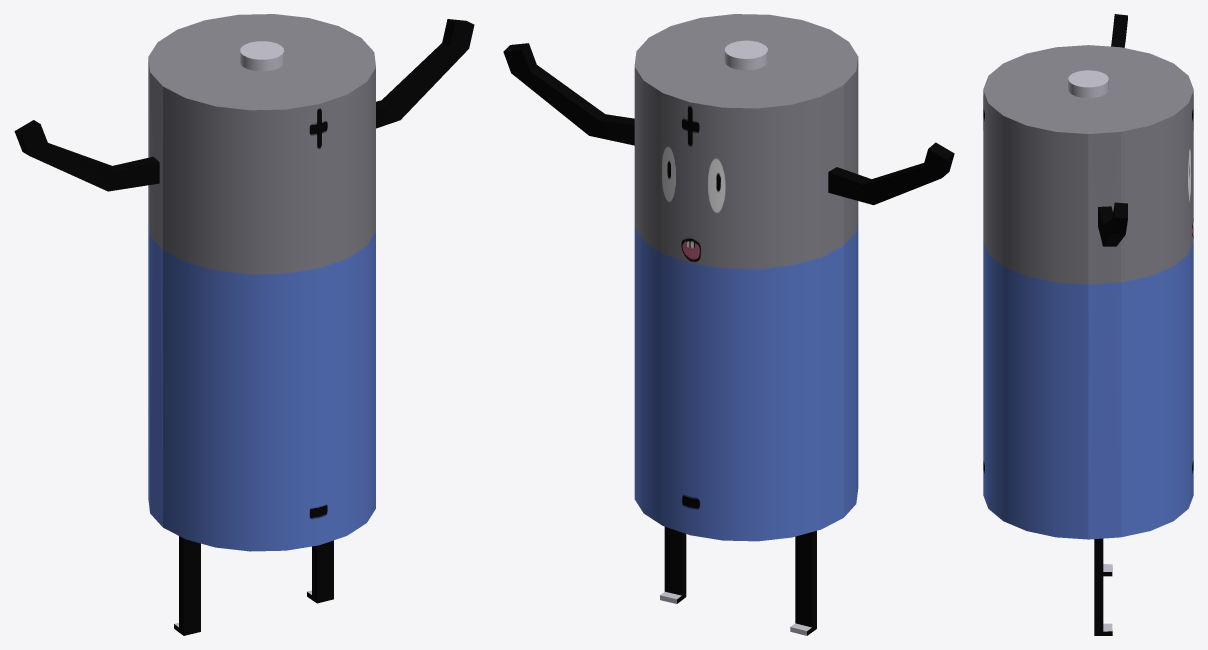
Rendered from Battery.fbx.
3 views of the same model, side by side, from view 1: azimuth 30°, elevation 25°; view 2: azimuth 150°, elevation 25°; view 3: azimuth 270°, elevation 25° (orthographic). The views are drawn at different scales.
Parts seen in each view (by area): view 1: pCylinder1; view 2: pCylinder1; view 3: pCylinder1.
Boxes of the visible parts, box(x1,y1,x2,y2) form: pCylinder1: box(14, 14, 474, 635); pCylinder1: box(503, 14, 954, 635); pCylinder1: box(983, 14, 1193, 635).
Bounding box in the file's own units: 4.57 × 5.48 × 2.
